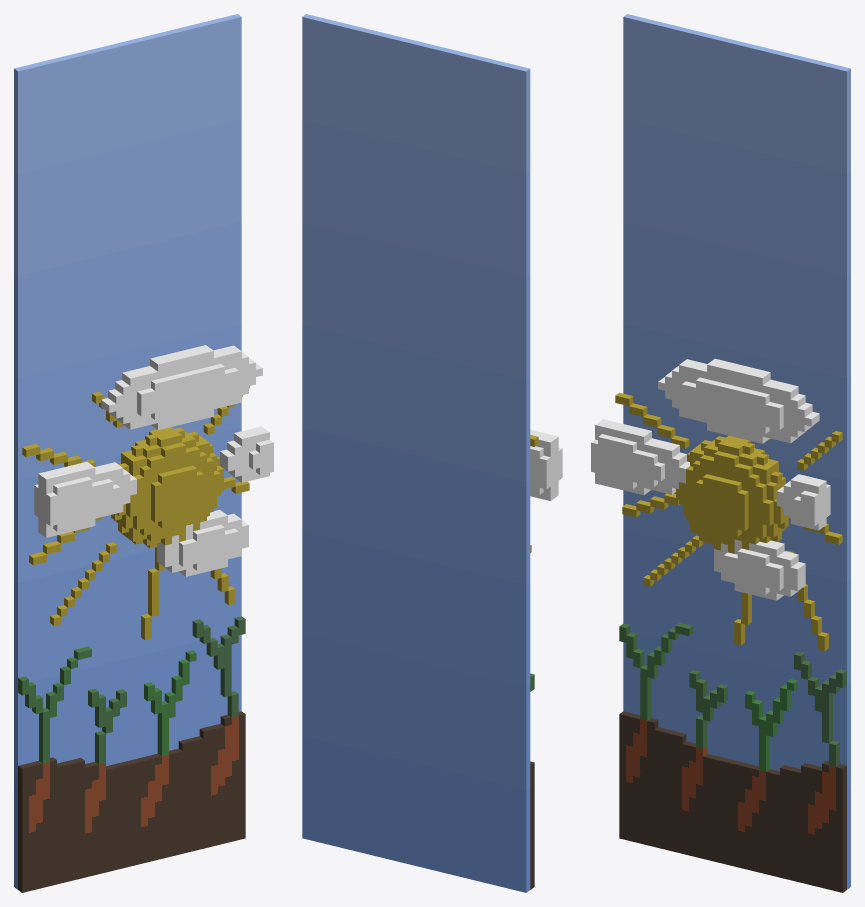
File: scene_plants.glb
The picture shows the model from 3 angles, left to right: view 1: azimuth 30°, elevation 25°; view 2: azimuth 150°, elevation 25°; view 3: azimuth 330°, elevation 25°; orthographic projection.
Visible parts, largest first — view 1: scene_plants_93, scene_plants_96, scene_plants_94, scene_plants_95; view 2: scene_plants_93, scene_plants_94, scene_plants_96; view 3: scene_plants_93, scene_plants_96, scene_plants_94, scene_plants_95.
Boxes of the visible parts, x1=… form: scene_plants_93: x1=14, y1=14, x2=241, y2=889; scene_plants_96: x1=18, y1=616, x2=245, y2=892; scene_plants_94: x1=34, y1=345, x2=273, y2=576; scene_plants_95: x1=22, y1=386, x2=249, y2=640; scene_plants_93: x1=302, y1=14, x2=530, y2=892; scene_plants_94: x1=530, y1=429, x2=562, y2=500; scene_plants_96: x1=530, y1=673, x2=534, y2=889; scene_plants_93: x1=623, y1=14, x2=850, y2=889; scene_plants_96: x1=619, y1=622, x2=846, y2=892; scene_plants_94: x1=591, y1=358, x2=830, y2=600; scene_plants_95: x1=615, y1=392, x2=842, y2=651.
Bounding box in the file's own units: 3.2 × 11.2 × 0.9.
1 material, 1 textured.
